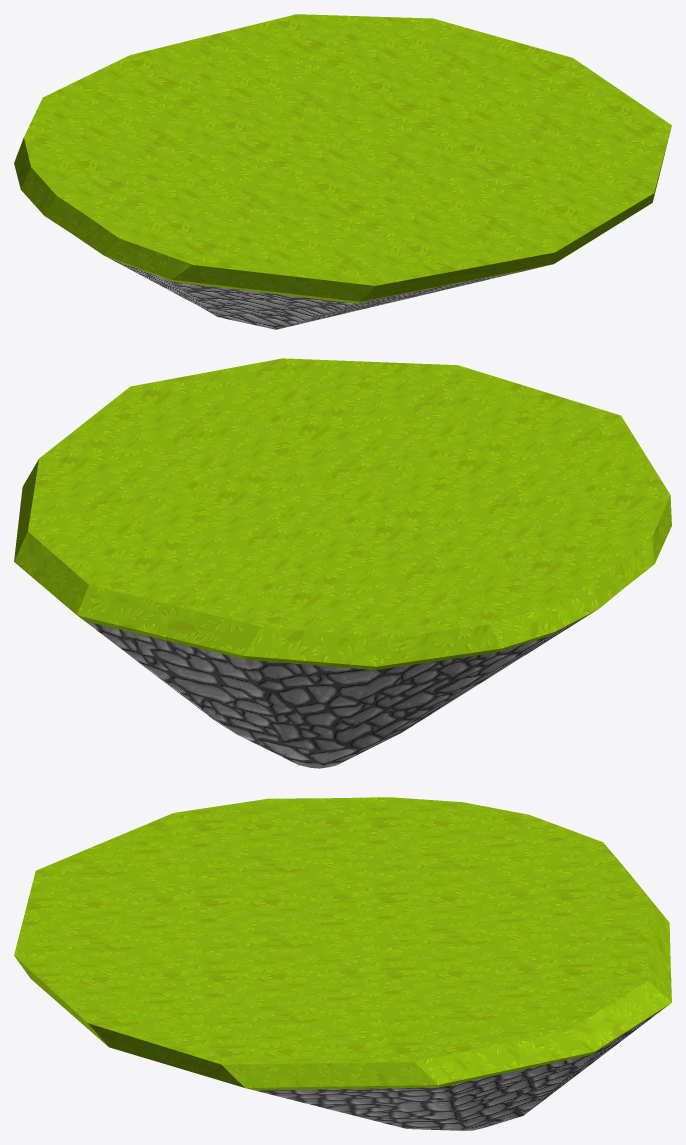
File: IslaPequeña2.glb
The picture shows the model from 3 angles, top to bottom: view 1: azimuth 30°, elevation 25°; view 2: azimuth 150°, elevation 25°; view 3: azimuth 270°, elevation 25°; orthographic projection. The views are drawn at different scales.
Visible parts, largest first — view 1: Plane.002; view 2: Plane.002; view 3: Plane.002.
Part boxes in pixels (x1,y1,x2,y2): Plane.002: [14, 14, 671, 329]; Plane.002: [14, 358, 671, 768]; Plane.002: [14, 797, 671, 1130].
Bounding box in the file's own units: 7.49 × 2.63 × 7.57.
Materials: 2 (2 with a texture image).
